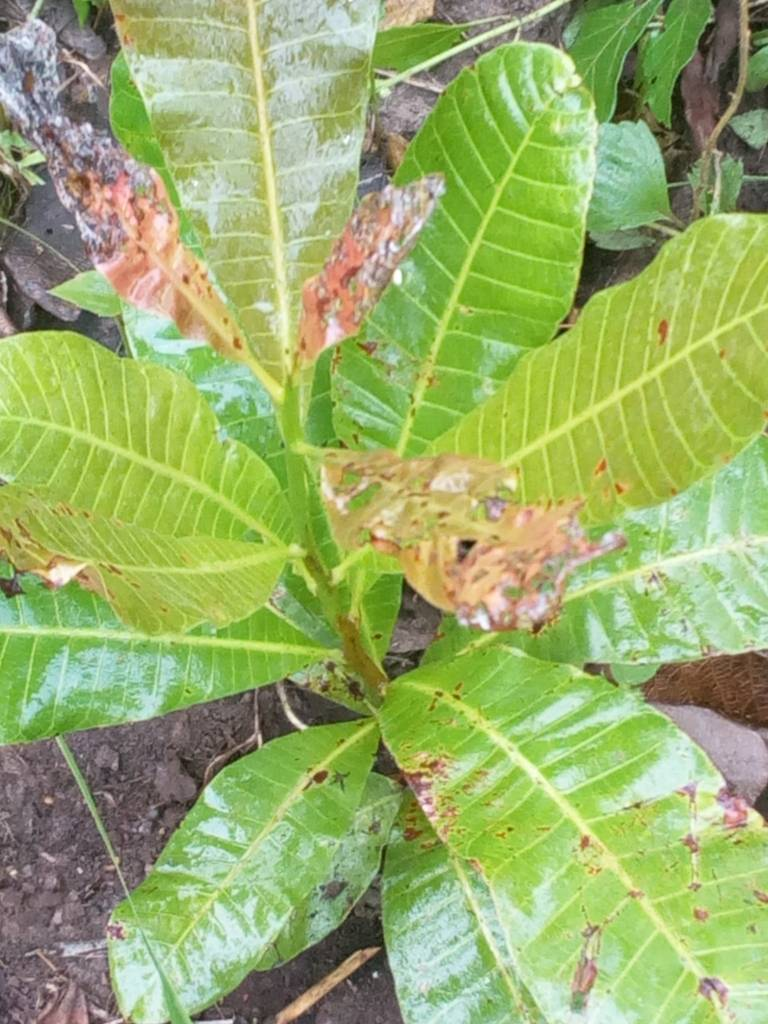Pestalotiose: (588, 255, 760, 508)
